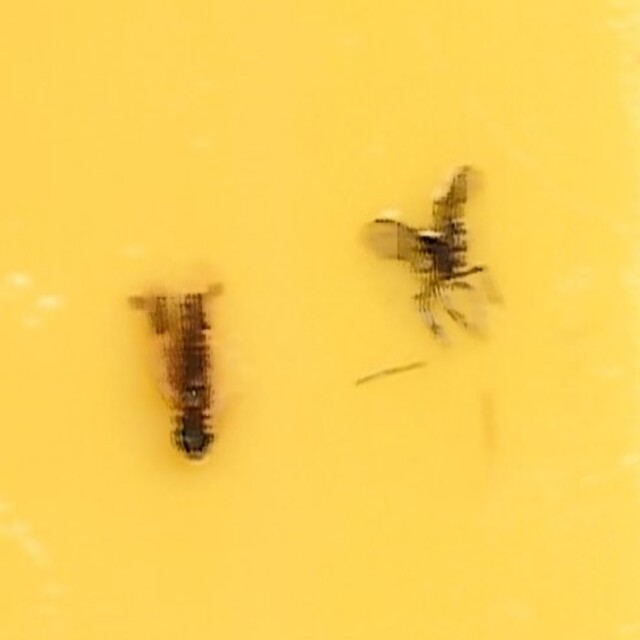Hemiptera: (131, 270, 235, 470)
Nematocera: (358, 170, 509, 351)
